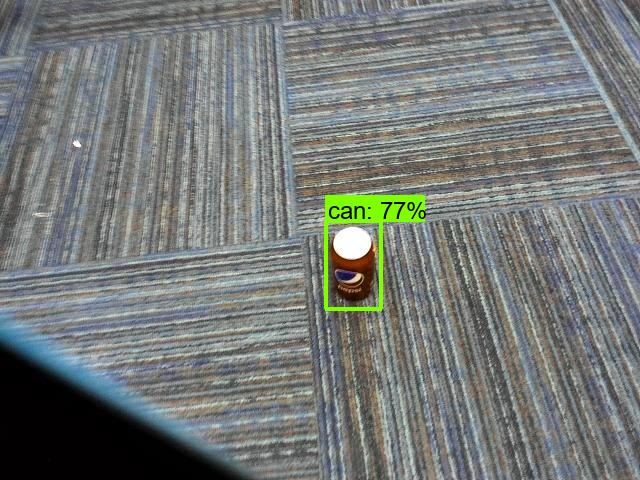can: (325, 219, 379, 308)
